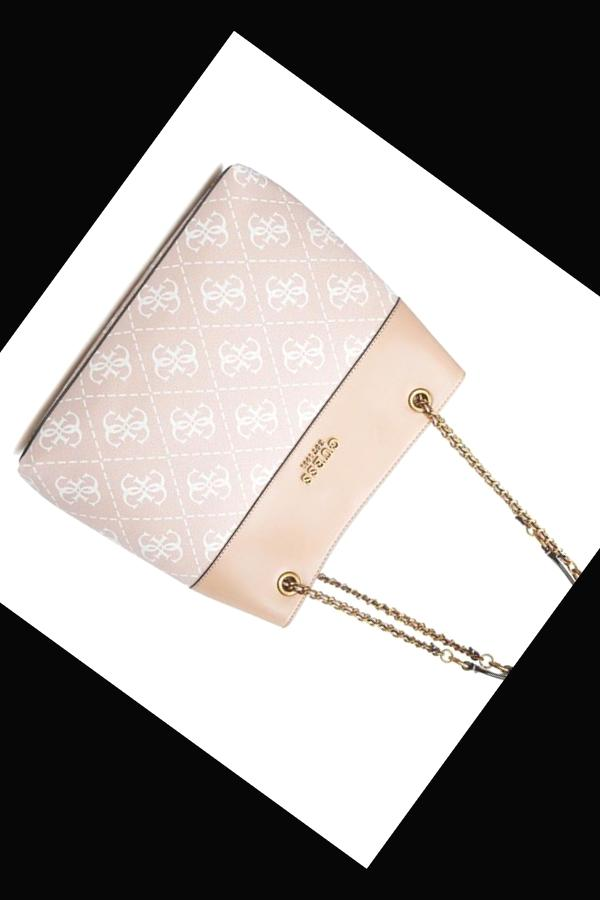GUESS: (298, 436, 340, 486)
